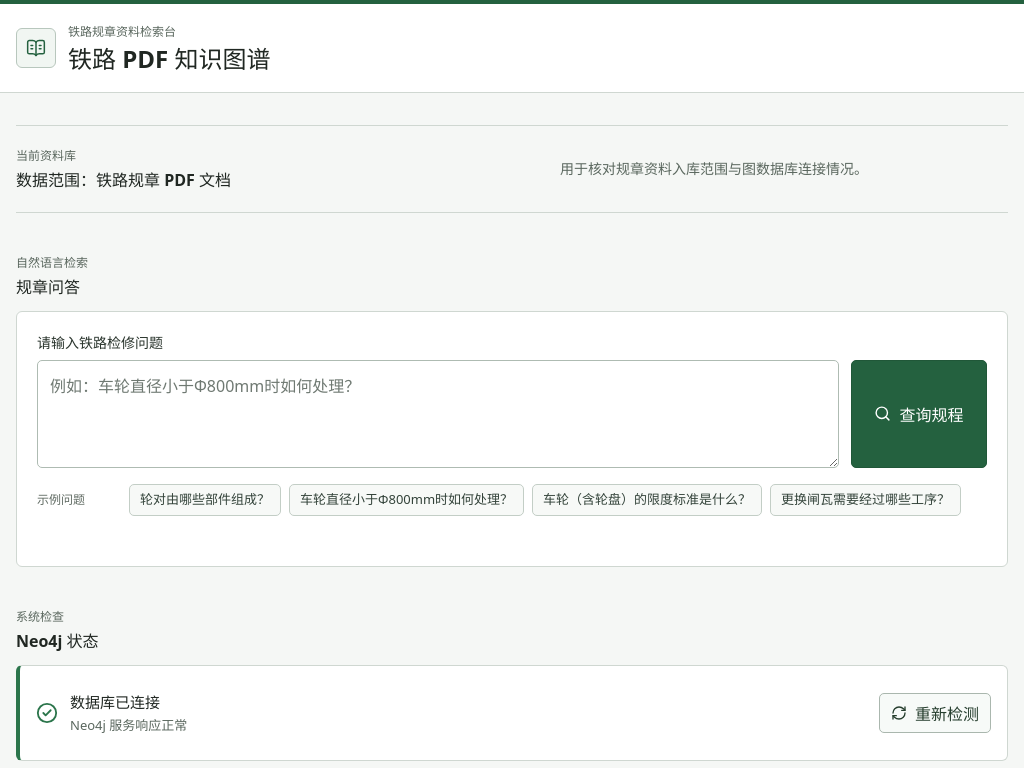
错误可重试且保留输入
Expected: the text "数据库已连接" is shown, [70,692,160,712]
Type "车轮怎么处理？" into the text box at (438, 414), box [37,360,839,468]
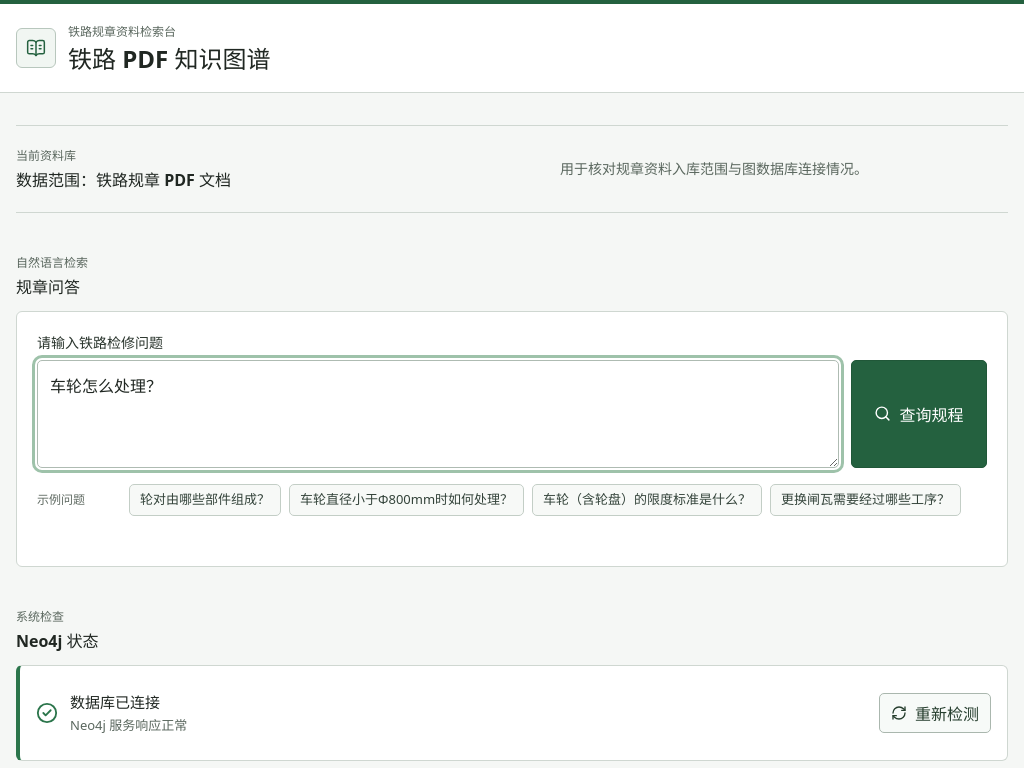
Click the button "查询规程" at (919, 414), box [851,360,987,468]
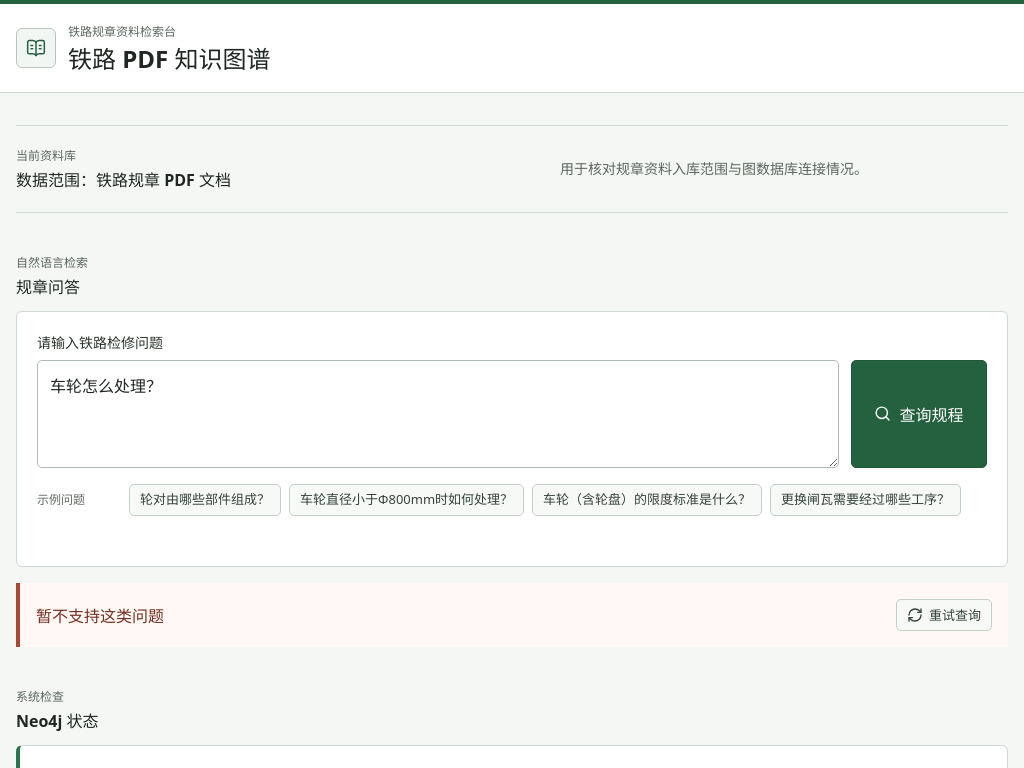
Expected: the message shows "暂不支持这类问题", [36,605,164,627]
Click the button "重试查询" at (944, 615), box [896,599,992,631]
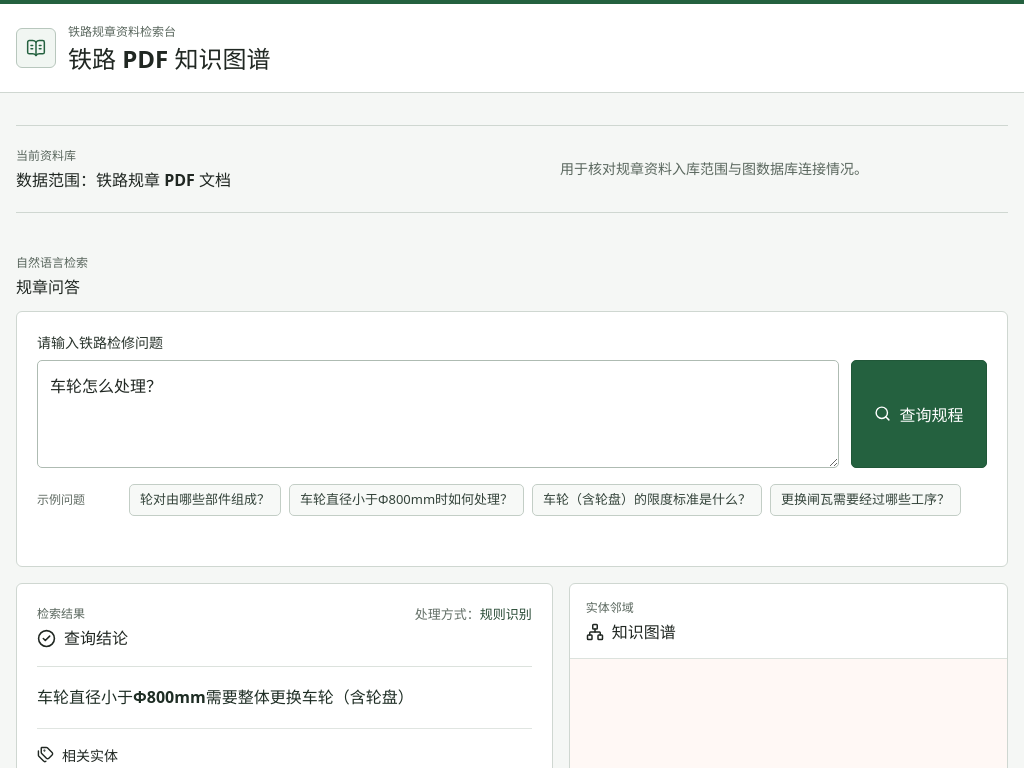
Expected: the text "车轮直径小于Φ800mm需要整体更换车轮（含轮盘）" is shown, [37,686,414,708]
